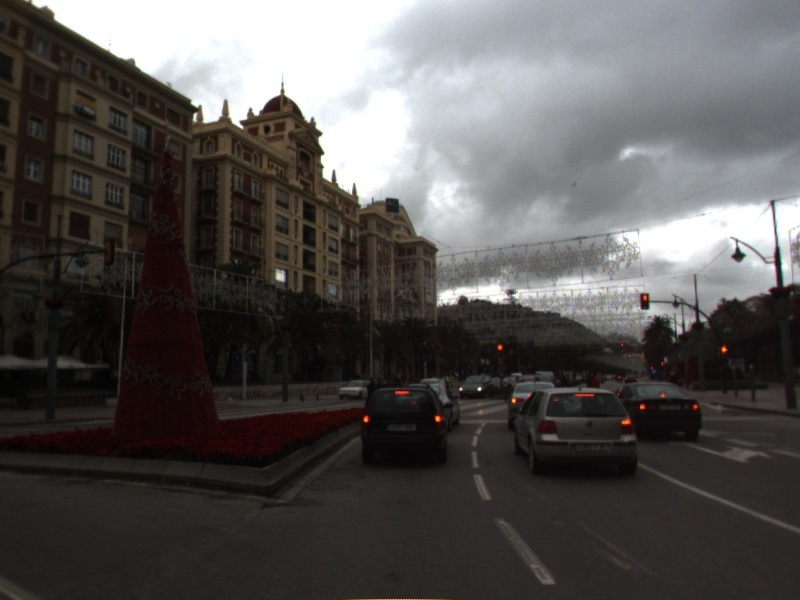STRAIGHT_RIGHT: (667, 437, 775, 466)
